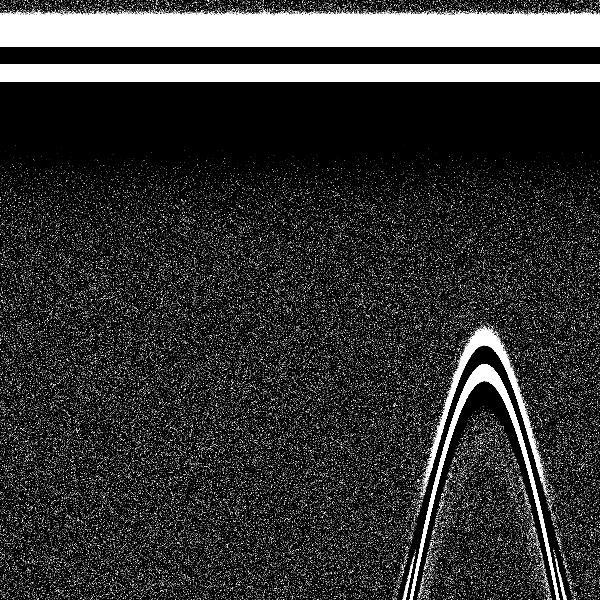pipe: (433, 5, 533, 412)
